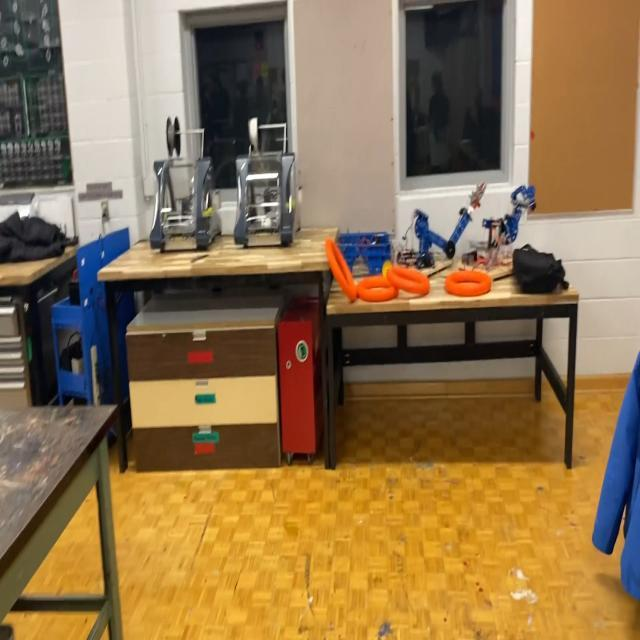note: (325, 236, 357, 303), (384, 264, 430, 295), (446, 269, 492, 297), (356, 272, 398, 302)
